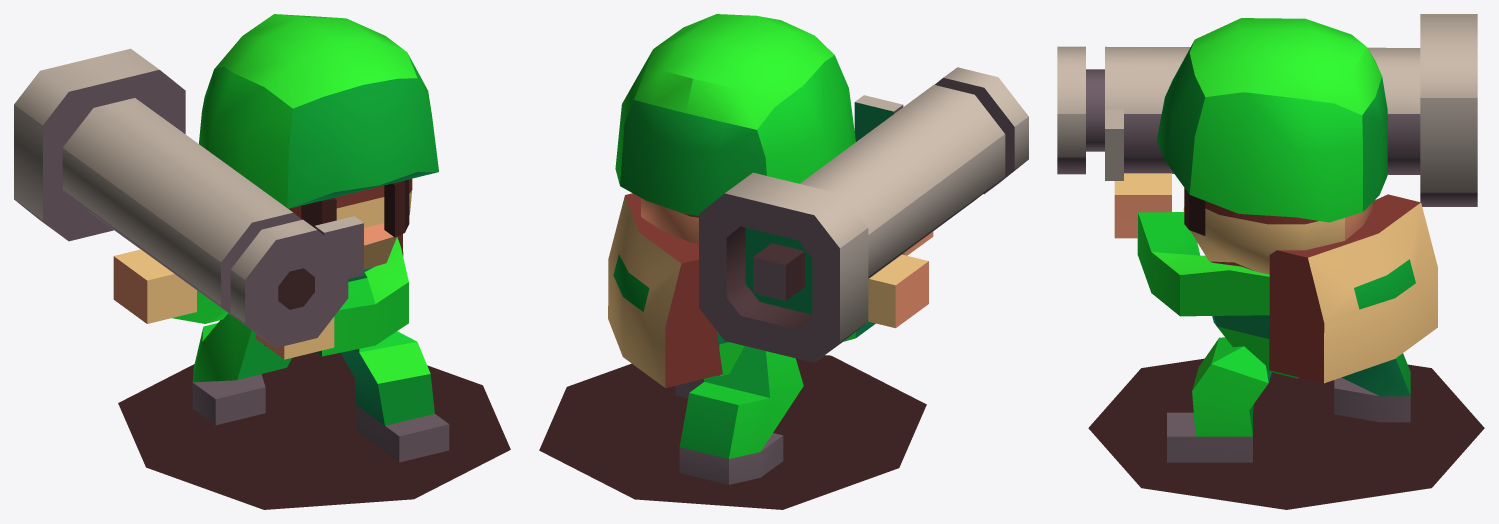
The model's file is MechMesh.GreenEarth.glb.
3 views of the same model, side by side, from view 1: azimuth 30°, elevation 25°; view 2: azimuth 150°, elevation 25°; view 3: azimuth 270°, elevation 25° (orthographic).
Parts seen in each view (by area): view 1: MechMesh.GreenEarth; view 2: MechMesh.GreenEarth; view 3: MechMesh.GreenEarth.
Part boxes in pixels (x1,y1,x2,y2): MechMesh.GreenEarth: (14,14,510,509); MechMesh.GreenEarth: (539,14,1028,509); MechMesh.GreenEarth: (1057,14,1484,509).
Size of the model in its own units: 2.24 by 2.3 by 2.24.
Materials: 1 (1 with a texture image).
